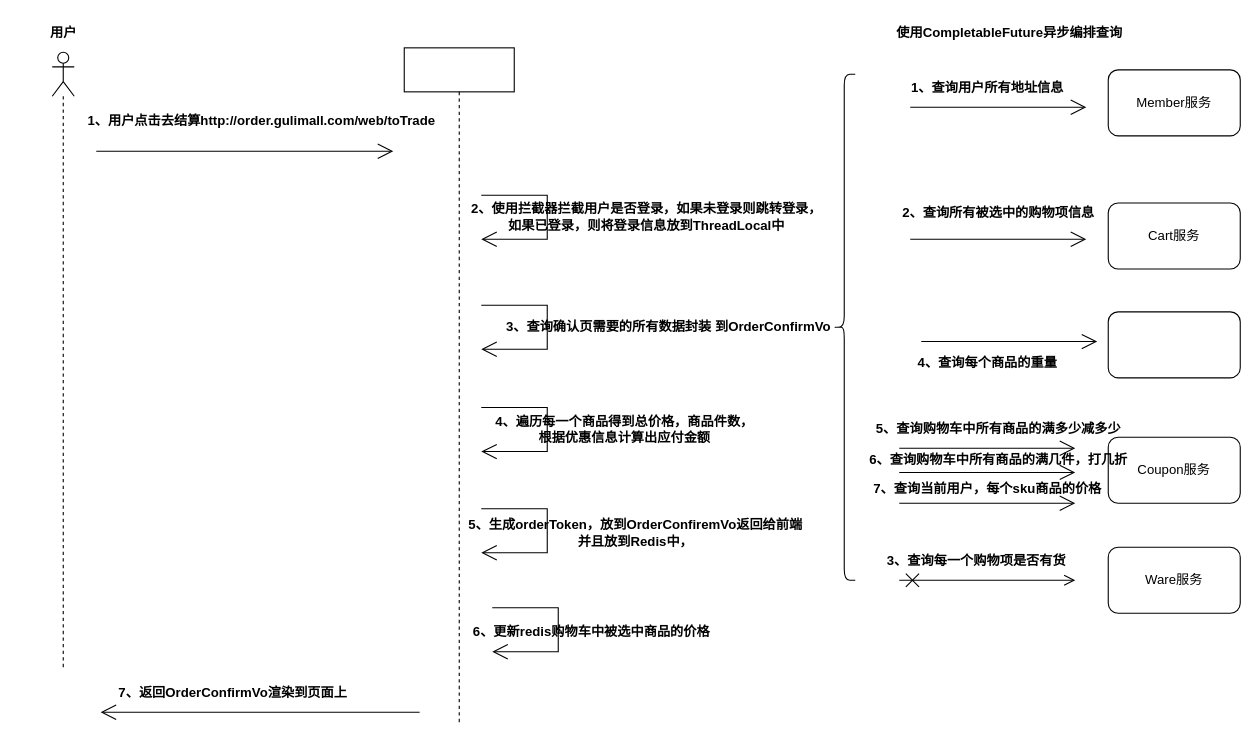
Image size: 1260x747. Some labels were removed from this diagram. The shapes that lost their labels are listed below. From the top down, each one's box as (x1, y1, x2, y2) in pixels, then its label:
(1107, 311, 1240, 378): Product服务
(403, 47, 514, 723): Order服务
